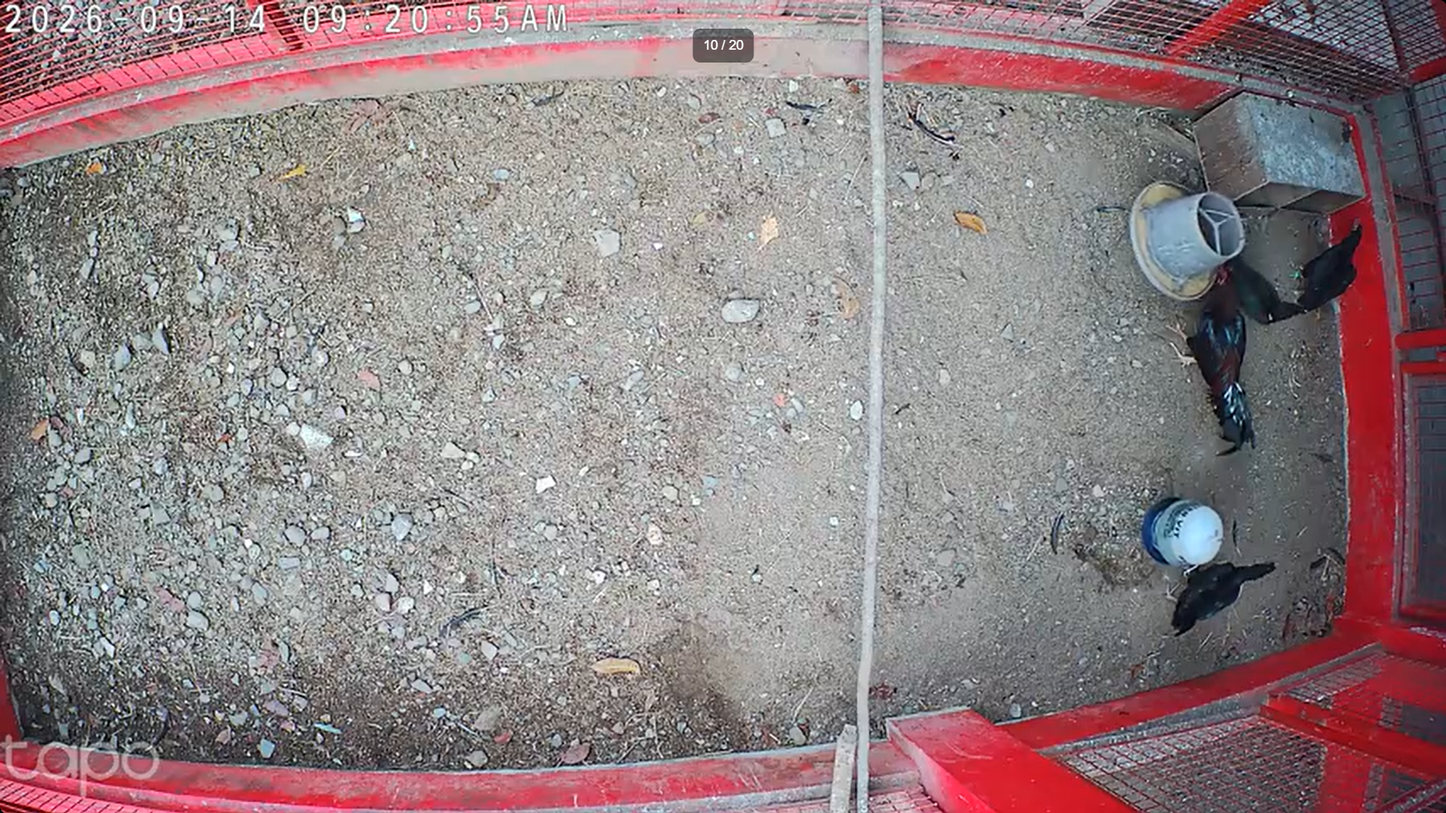Chicken: (1163, 555, 1283, 639), (1291, 217, 1366, 316), (1221, 253, 1304, 337)
Rooster: (1165, 260, 1258, 461)
